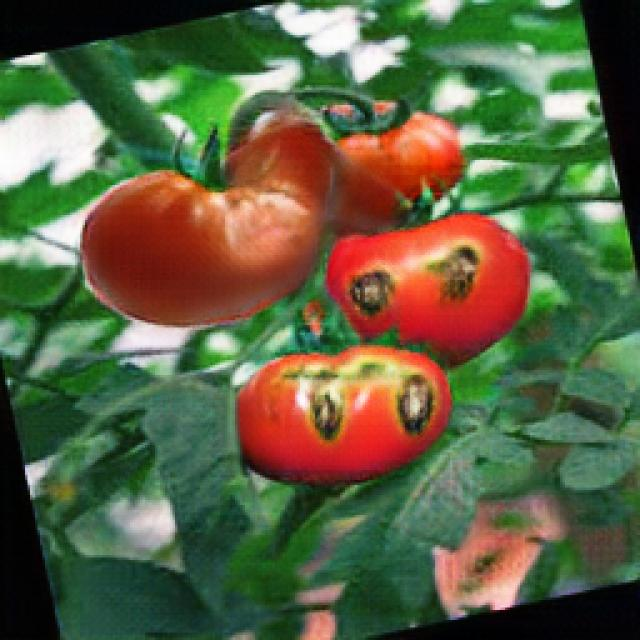overripe tomato: (82, 174, 319, 331), (327, 211, 530, 371), (241, 348, 450, 490)
